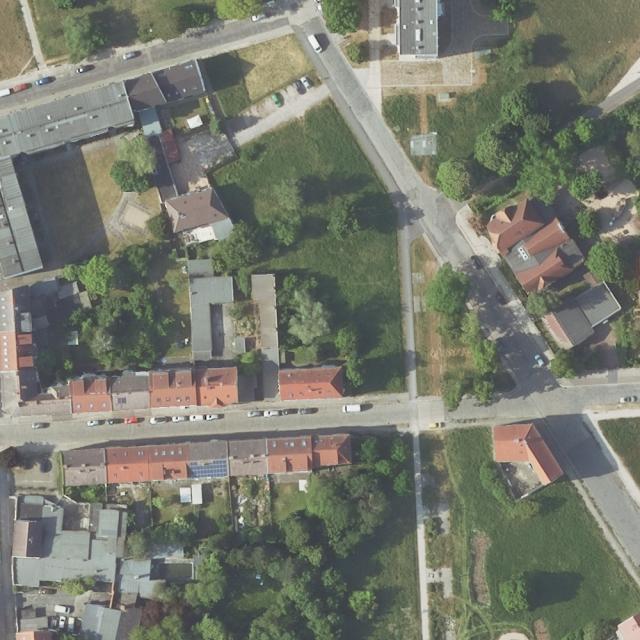PV: (189, 460, 228, 479)
ST: (117, 397, 126, 404)
